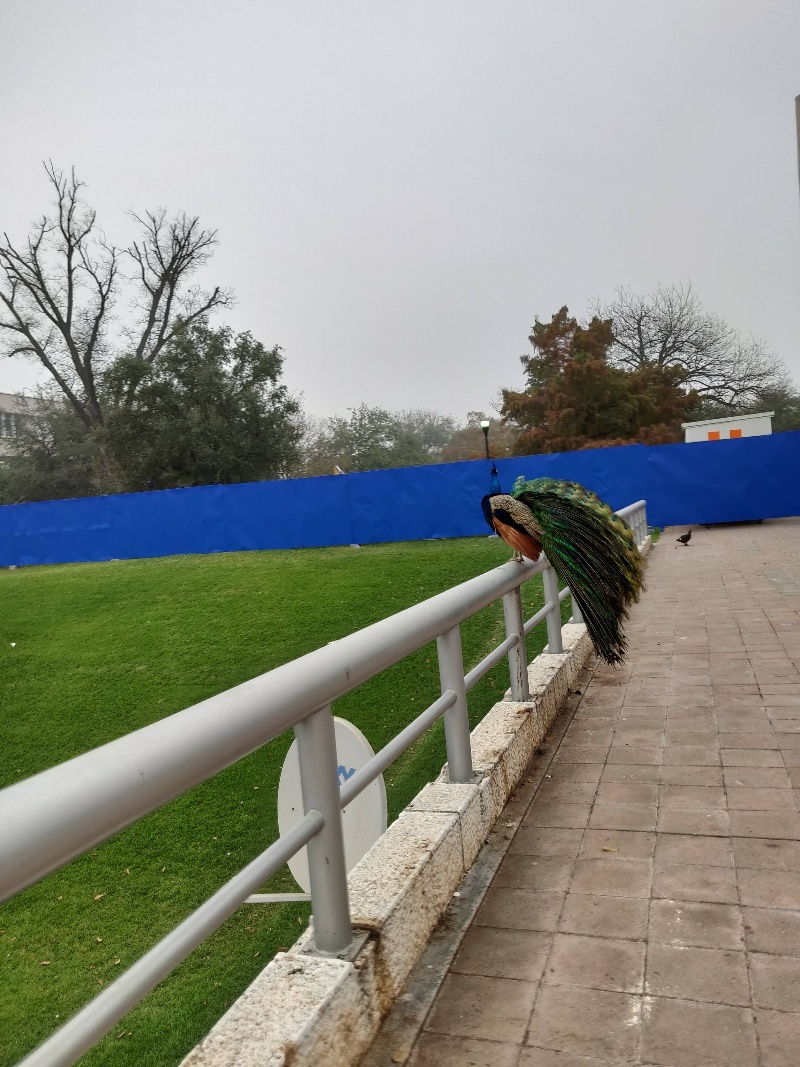pavoreal: (482, 478, 538, 550)
